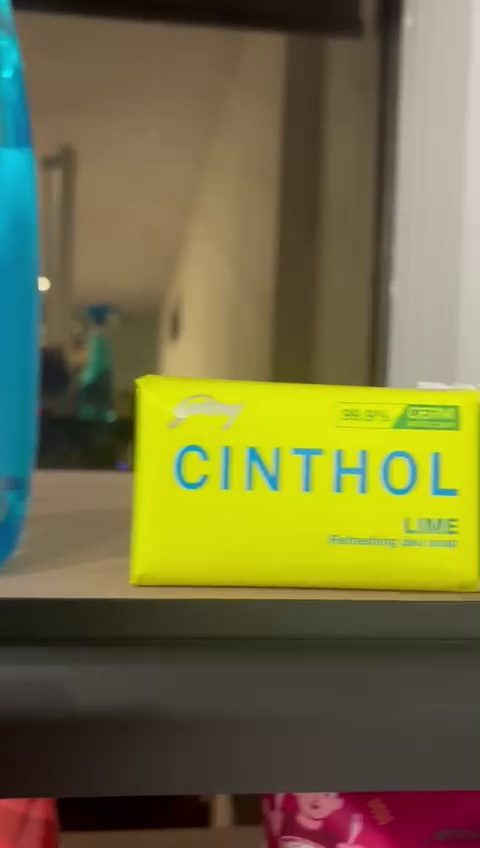Cinthol: (131, 378, 480, 590)
